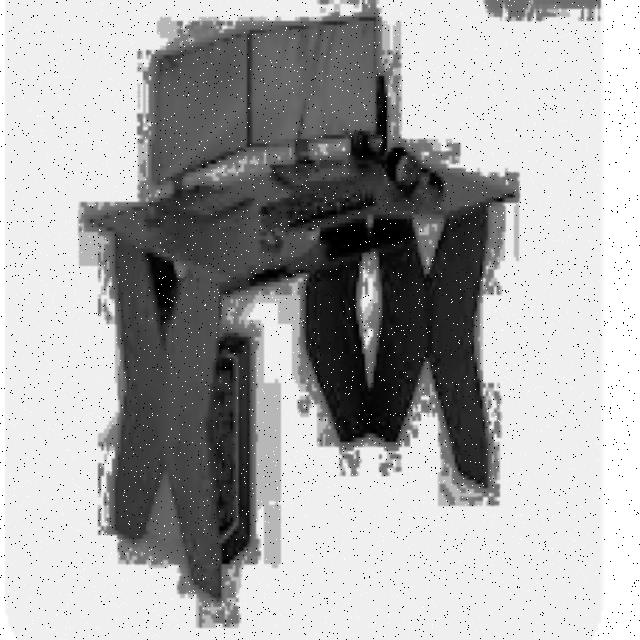table: (84, 143, 517, 598)
